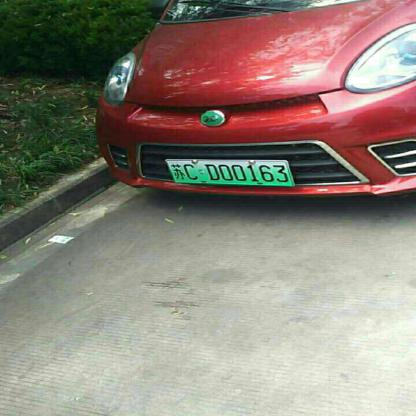lp: (166, 159, 292, 185)
